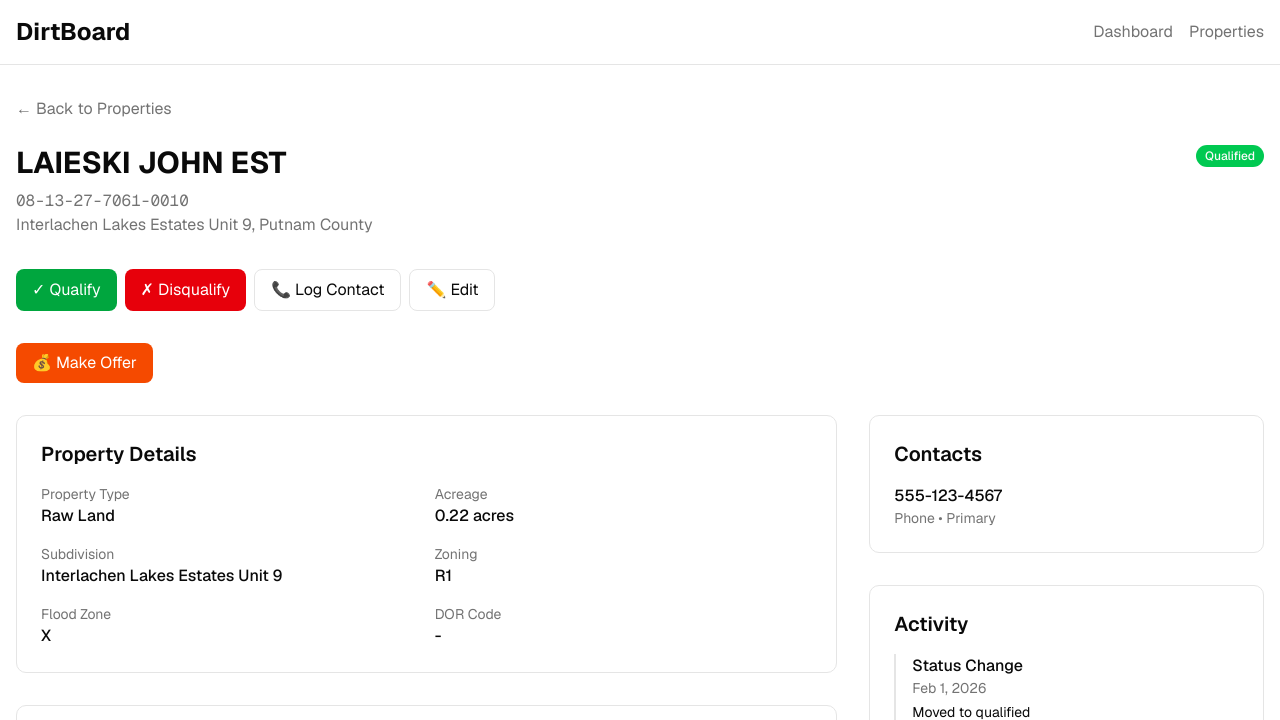
it: Property Detail Page › disqualify opens an inline form (no window.prompt)
The image size is (1280, 720).
Click the button "✗ Disqualify": x=185, y=290 [125,269,246,311]
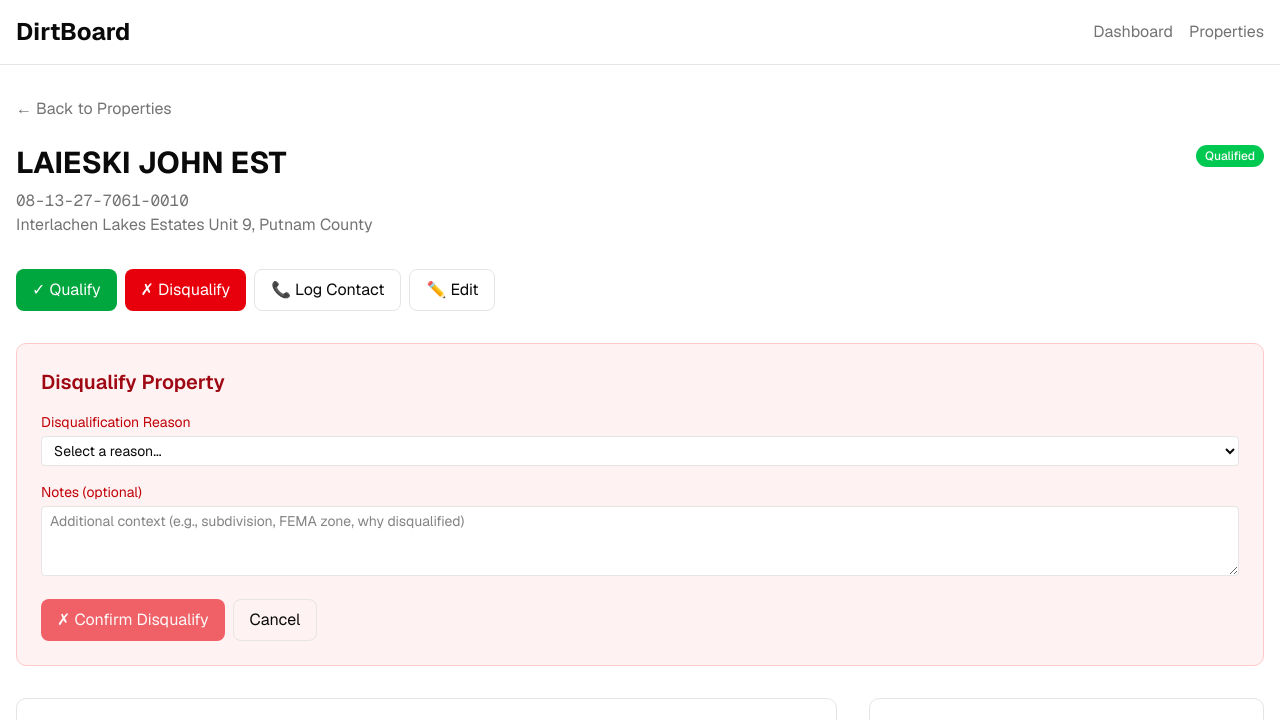
Expected: the text "Disqualification Reason" is shown, [41,413,191,431]
